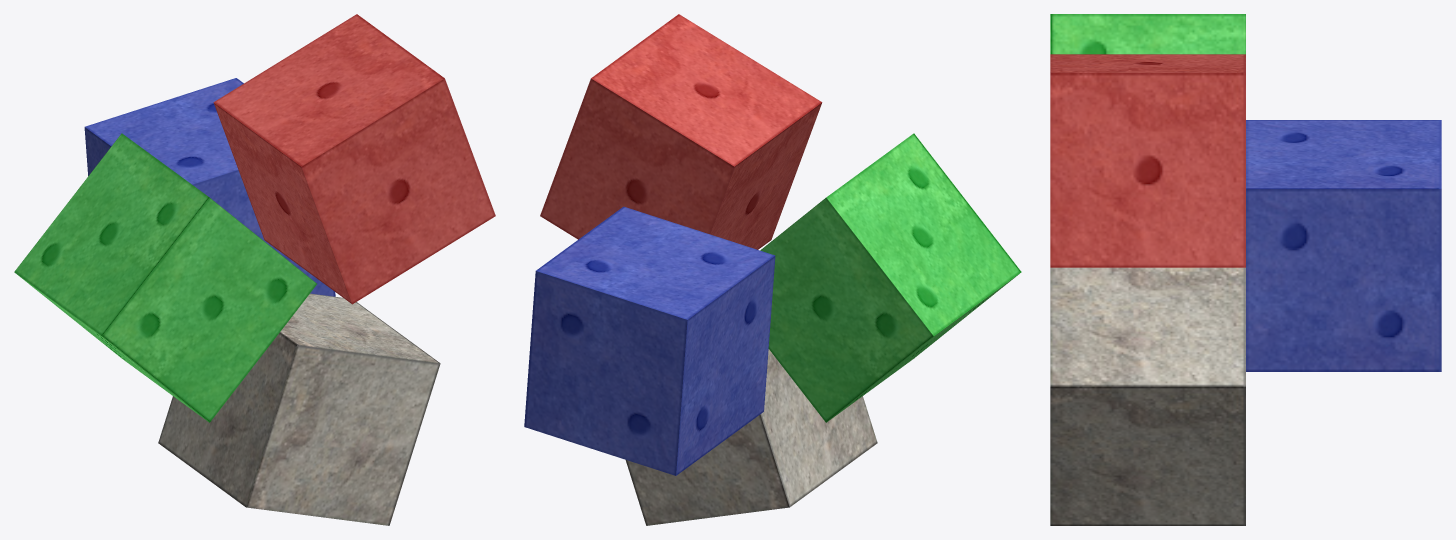
The model's file is cubes.dae.
3 views of the same model, side by side, from view 1: azimuth 30°, elevation 25°; view 2: azimuth 150°, elevation 25°; view 3: azimuth 270°, elevation 25° (orthographic). The views are drawn at different scales.
Visible parts, largest first — view 1: Cube.001; view 2: Cube.001; view 3: Cube.001.
Boxes of the visible parts, x1,y1,x2,y2 form: Cube.001: (14, 14, 495, 525); Cube.001: (524, 14, 1021, 525); Cube.001: (1050, 14, 1441, 525).
Bounding box in the file's own units: 1.03 × 0.8 × 1.09.
